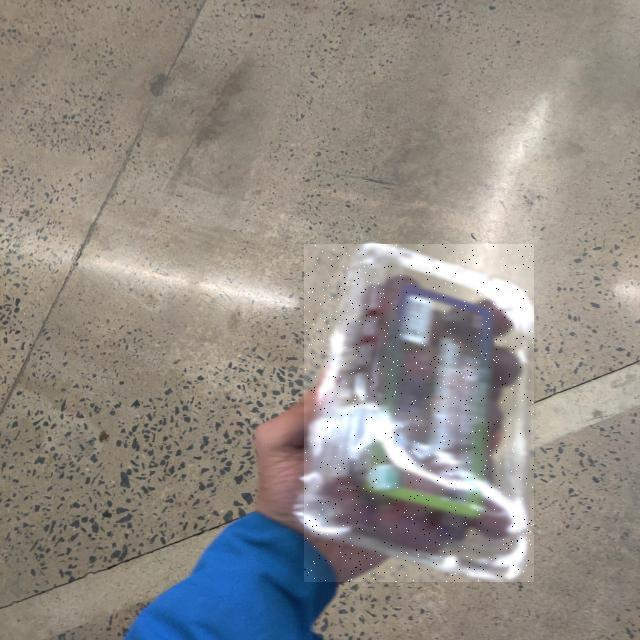Grapes: (305, 245, 535, 583)
